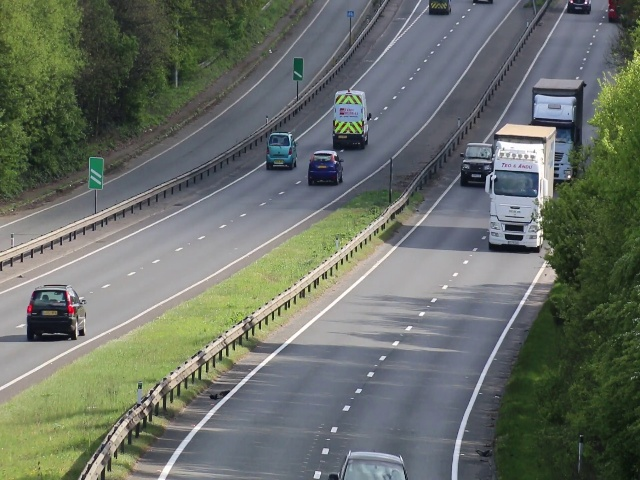car: (490, 161, 543, 251), (24, 283, 86, 340), (333, 91, 367, 146), (543, 90, 581, 129), (308, 148, 345, 188), (265, 133, 297, 173), (462, 142, 490, 185)
